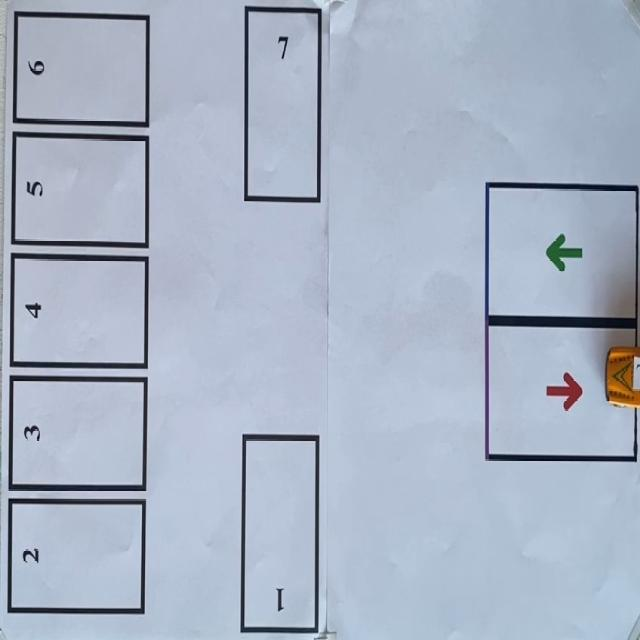car: (605, 347, 639, 408)
